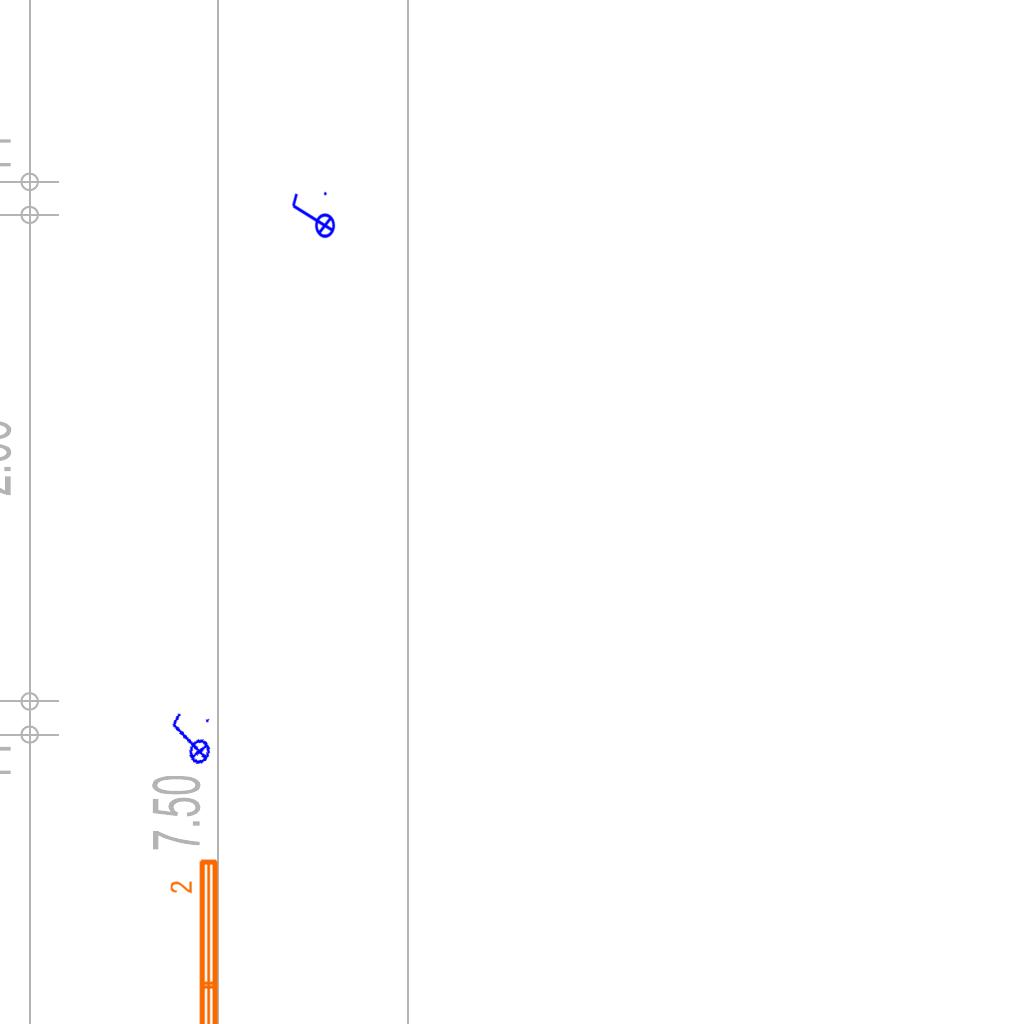Ambulanz_Pendelleuchte_LED: (168, 855, 224, 1024)
Ausschalter_beleuchtet: (158, 707, 220, 773), (288, 189, 336, 245)
